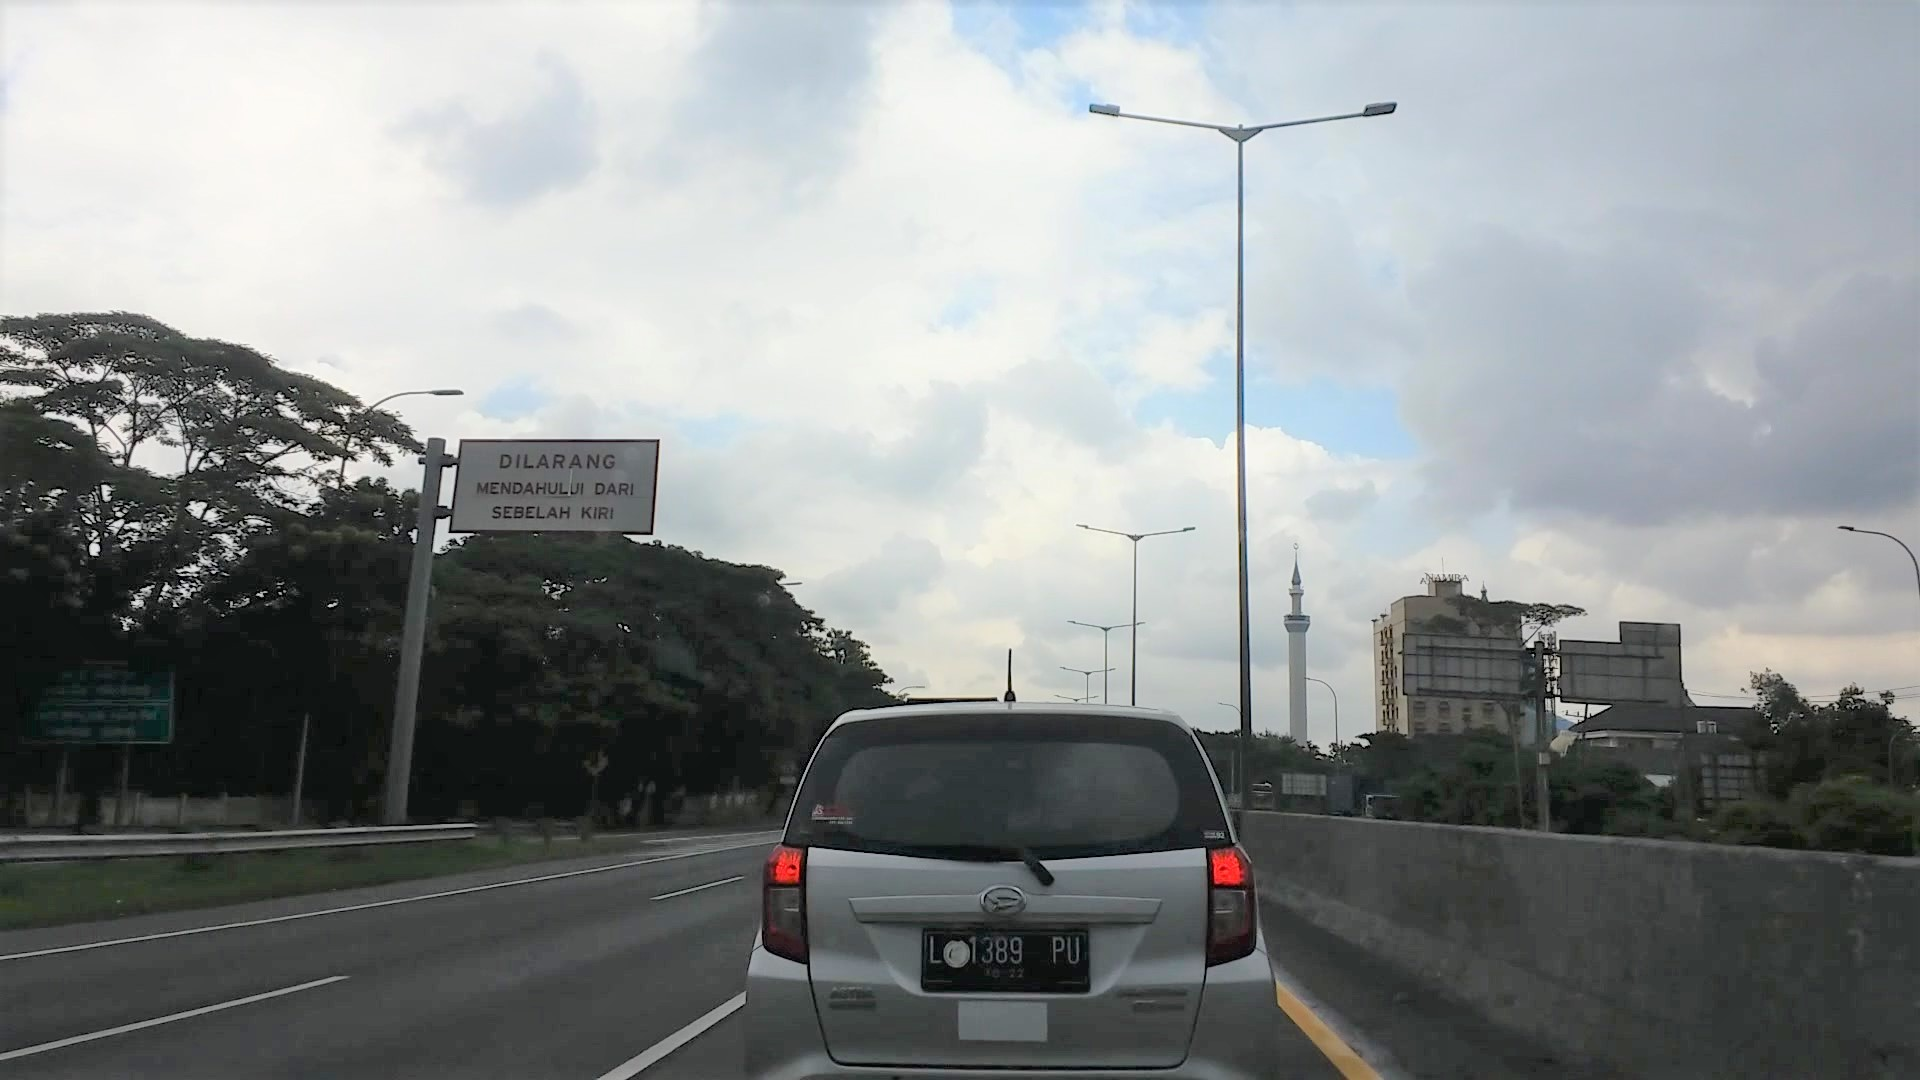plate_positive: (922, 926, 1091, 994)
